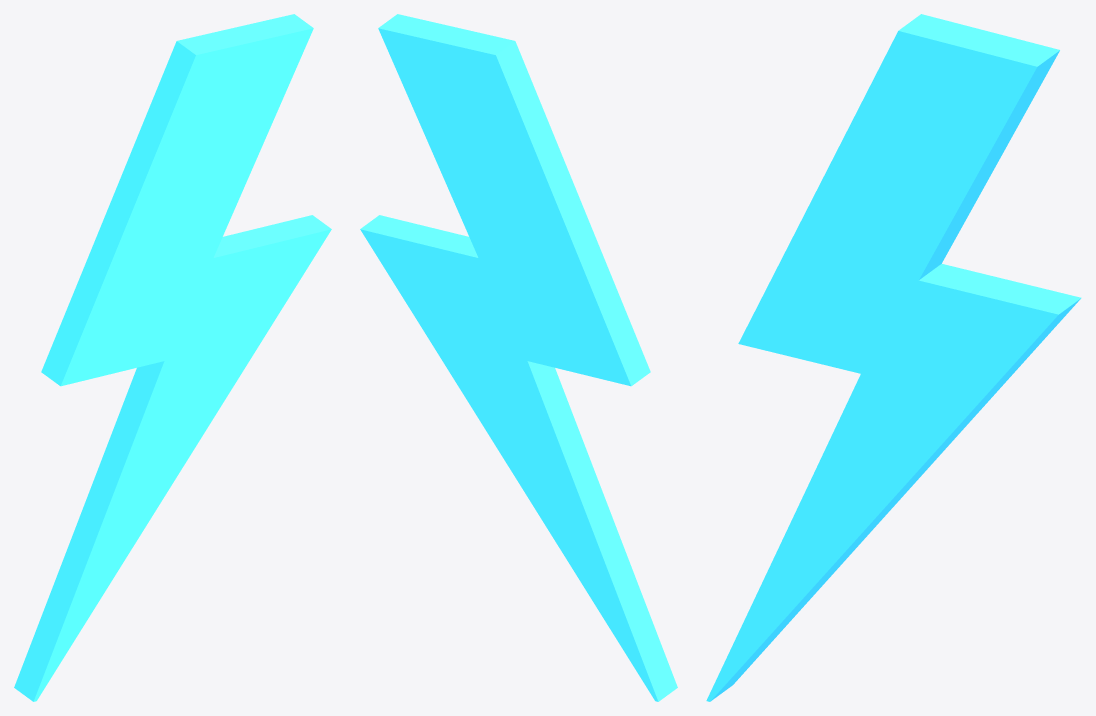
File: enerji.fbx
The picture shows the model from 3 angles, left to right: view 1: azimuth 30°, elevation 25°; view 2: azimuth 150°, elevation 25°; view 3: azimuth 330°, elevation 25°; orthographic projection. The views are drawn at different scales.
Parts seen in each view (by area): view 1: Cube; view 2: Cube; view 3: Cube.
Boxes of the visible parts, x1=… form: Cube: x1=14, y1=14, x2=331, y2=701; Cube: x1=360, y1=14, x2=677, y2=701; Cube: x1=706, y1=14, x2=1081, y2=701.
Size of the model in its own units: 167 by 325 by 18.9.
